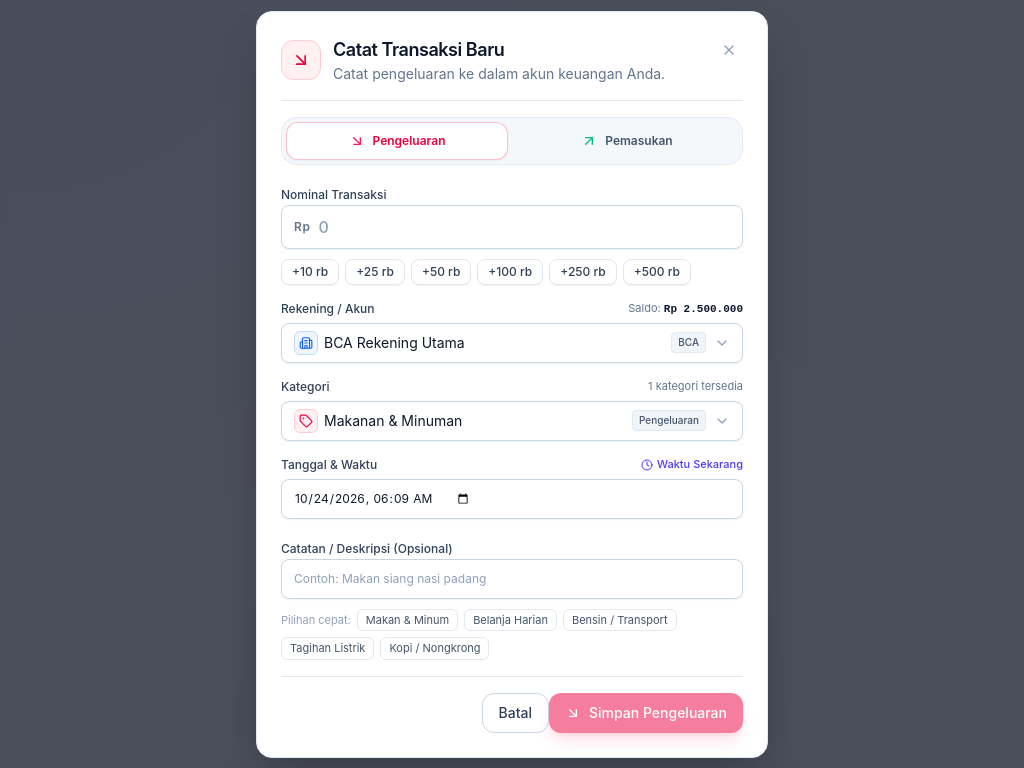
Test: TransactionFormDialog › toggles between Pengeluaran and Pemasukan, adapting presets and recommendations
Expected: the text "Makanan & Minuman" is shown, [324,410,462,430]
Note: Switch to Pemasukan
Click the button "Pemasukan": (627, 140) [516,122,738,160]
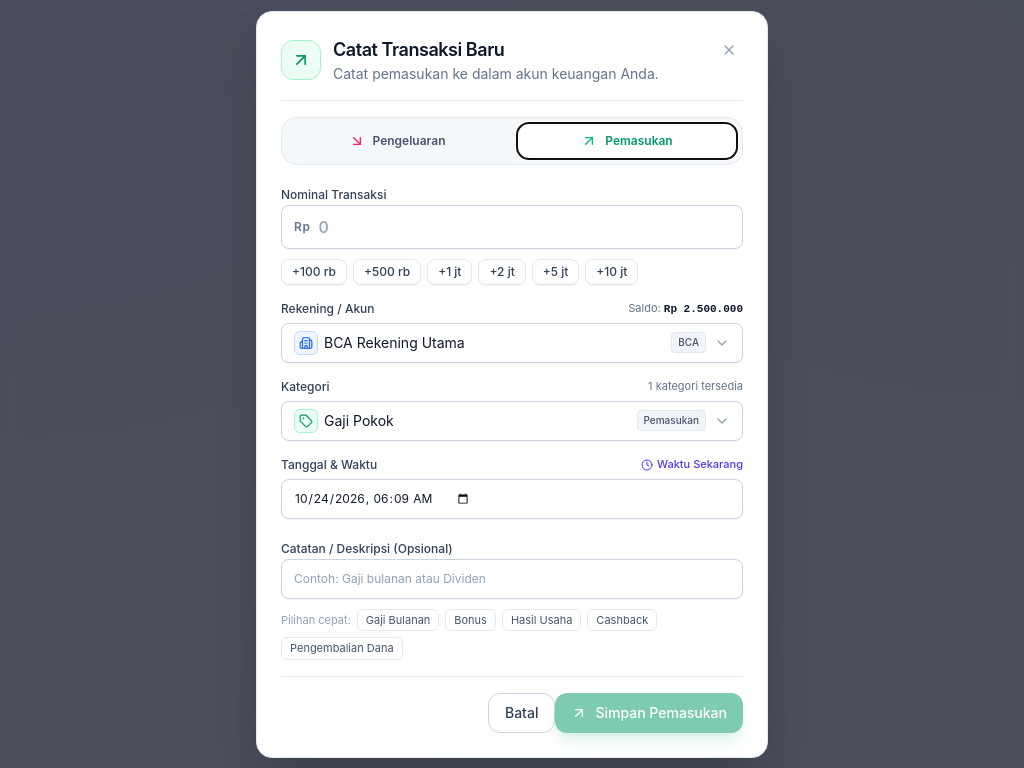
Result: the button "+1 jt" is shown at [427,258,472,284]
Result: the button "+5 jt" is shown at [532,258,579,284]
Result: the text "Gaji Pokok" is shown at [324,410,394,430]
